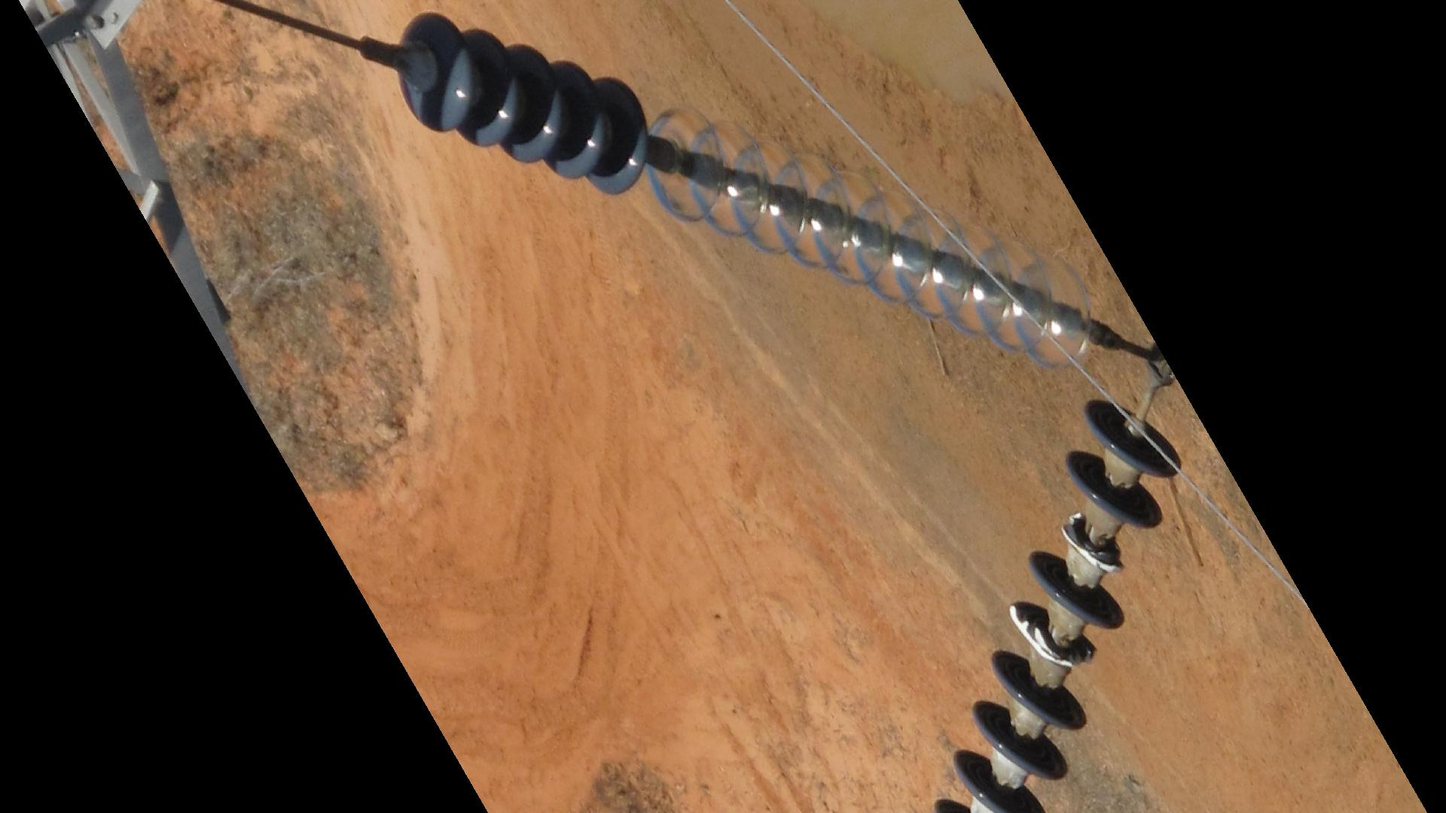insulator: (931, 395, 1185, 813), (398, 8, 655, 202)
insulator_breakage: (1003, 602, 1090, 671), (1057, 506, 1126, 582)
